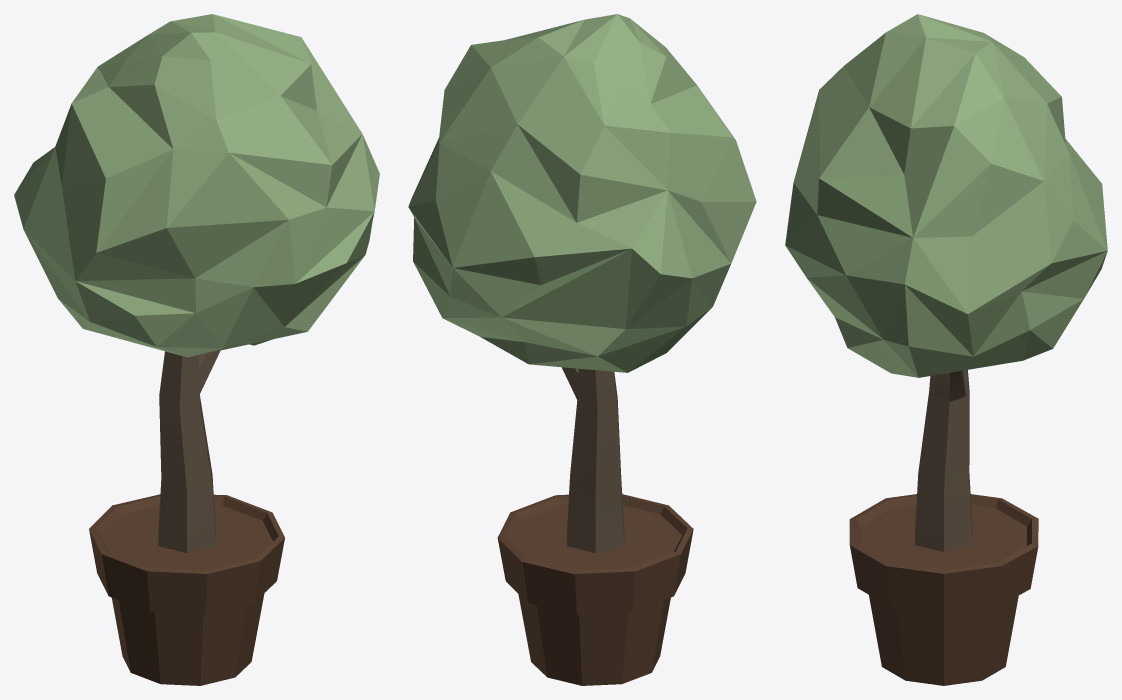
File: tree grown.mb.fbx
3 renders of one model, left to right at view 1: azimuth 30°, elevation 25°; view 2: azimuth 150°, elevation 25°; view 3: azimuth 270°, elevation 25°, orthographic.
Parts seen in each view (by area): view 1: pCube1, pCylinder3, pCylinder1; view 2: pCube1, pCylinder3, pCylinder1; view 3: pCube1, pCylinder3, pCylinder1, pCylinder2.
Boxes of the visible parts, x1,y1,x2,y2 form: pCube1: (14, 14, 379, 357); pCylinder3: (89, 494, 284, 685); pCylinder1: (158, 351, 215, 552); pCube1: (408, 14, 756, 372); pCylinder3: (497, 494, 693, 685); pCylinder1: (567, 368, 624, 553); pCube1: (785, 14, 1107, 377); pCylinder3: (849, 494, 1038, 685); pCylinder1: (915, 370, 972, 551); pCylinder2: (934, 370, 965, 401).
Size of the model in its own units: 6.34 by 12.74 by 5.82.
